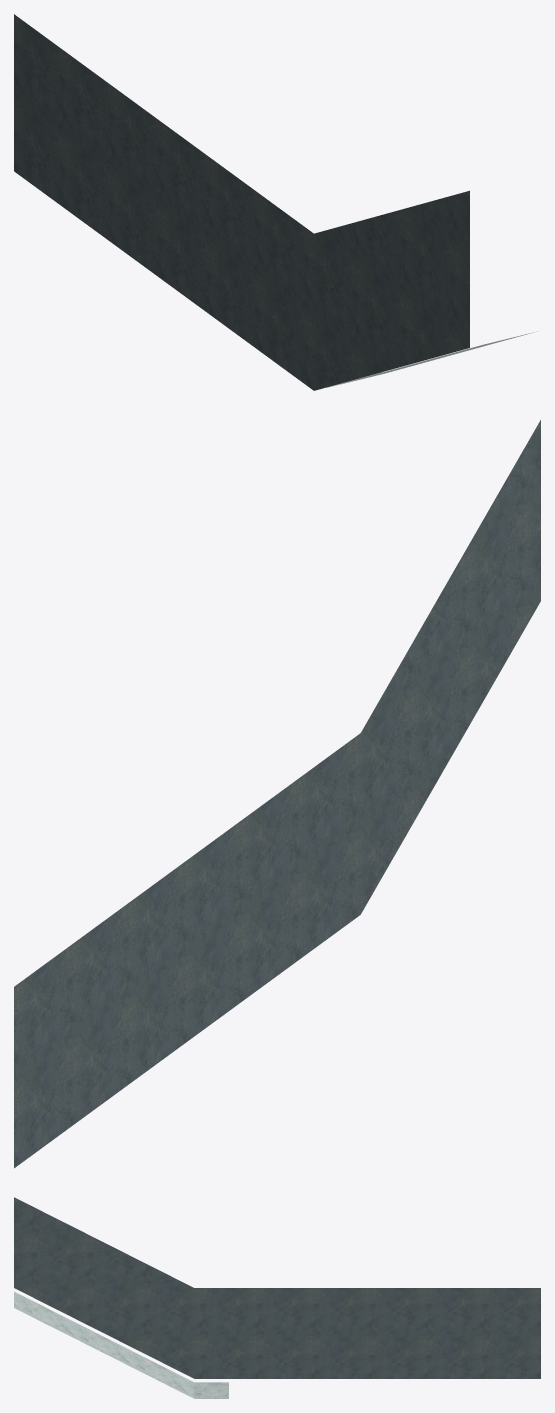
The model's file is FinalMap_Stairs_Top.FBX.
3 renders of one model, top to bottom at view 1: azimuth 30°, elevation 25°; view 2: azimuth 150°, elevation 25°; view 3: azimuth 270°, elevation 25°, orthographic. The views are drawn at different scales.
Parts seen in each view (by area): view 1: FinalMap_Stairs_Top; view 2: FinalMap_Stairs_Top; view 3: FinalMap_Stairs_Top.
Part boxes in pixels (left/top/right/bottom): FinalMap_Stairs_Top: left=14, top=14, right=536, bottom=390; FinalMap_Stairs_Top: left=14, top=420, right=540, bottom=1168; FinalMap_Stairs_Top: left=14, top=1197, right=540, bottom=1398.
Size of the model in its own units: 222 by 943 by 2478.
